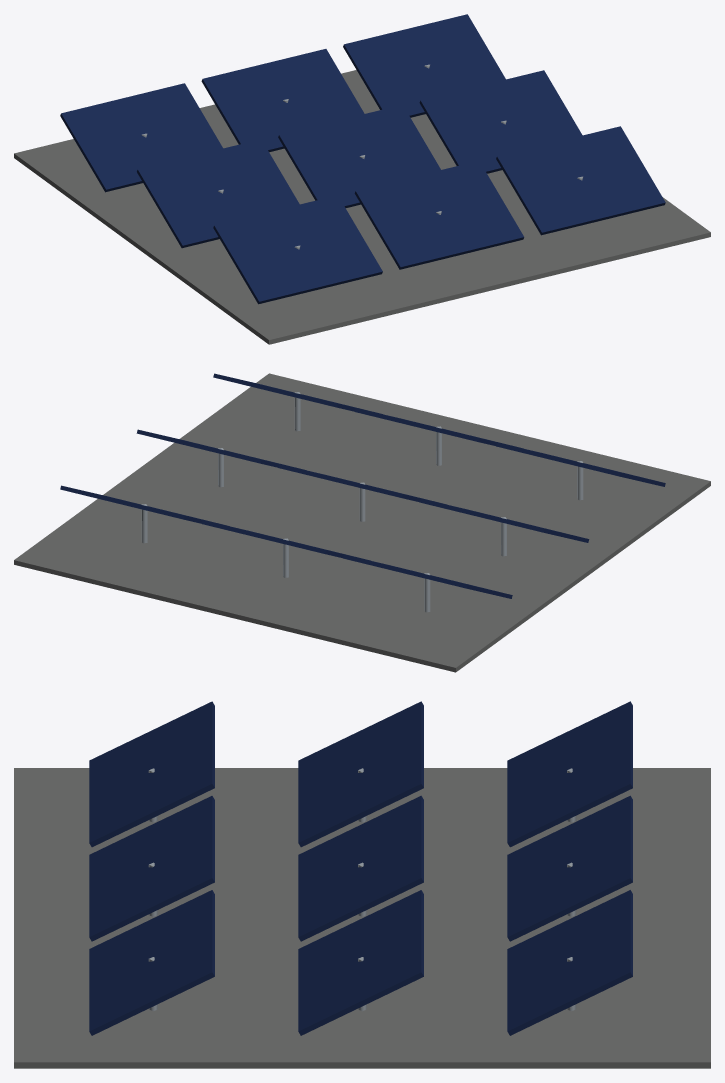
File: bld_special_power_plant_a08.glb
The picture shows the model from 3 angles, top to bottom: view 1: azimuth 30°, elevation 25°; view 2: azimuth 150°, elevation 25°; view 3: azimuth 270°, elevation 25°; orthographic projection. The views are drawn at different scales.
Visible parts, largest first — view 1: body; view 2: body; view 3: body.
Boxes of the visible parts, box(x1,y1,x2,y2) form: body: box(14, 14, 710, 344); body: box(14, 373, 710, 672); body: box(14, 701, 710, 1068).
Size of what is drawn, in the model's own units: 15 by 2.01 by 15.
